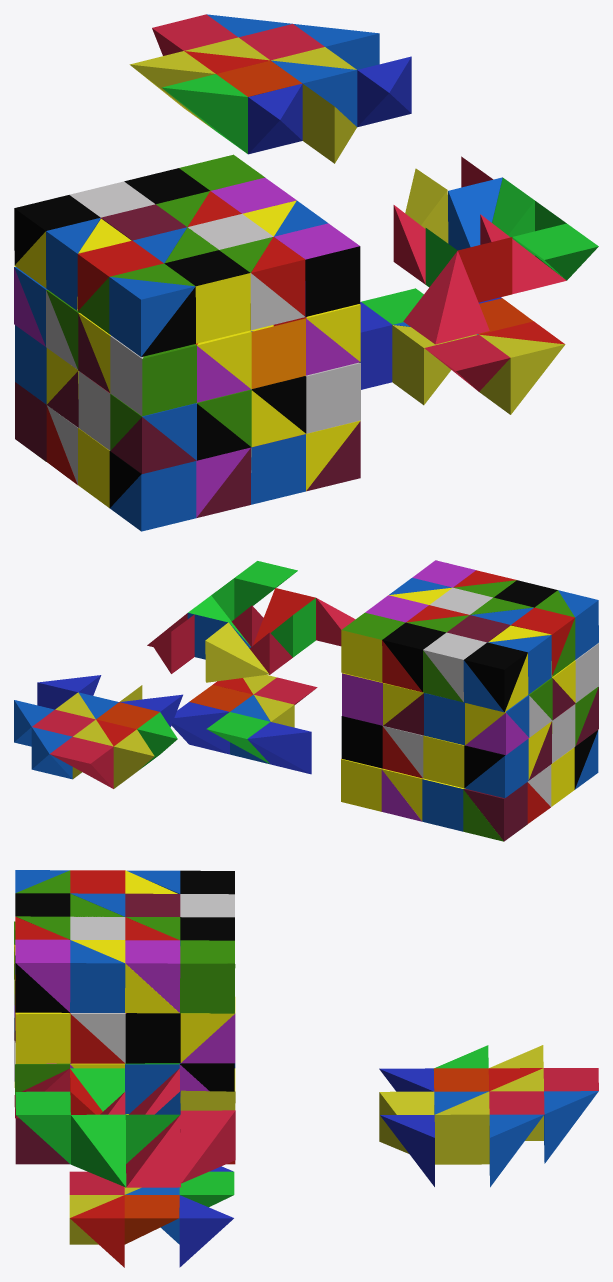
Rendered from modelc8.fbx.
The picture shows the model from 3 angles, top to bottom: view 1: azimuth 30°, elevation 25°; view 2: azimuth 150°, elevation 25°; view 3: azimuth 270°, elevation 25°; orthographic projection. The views are drawn at different scales.
Parts seen in each view (by area): view 1: Cube.365, Cube.297, Cube.221, Cube.291, Cube.208, Cube.295, Cube.375, Cube.248, Cube.369, Cube.300, Cube.212, Cube.325 (+82 smaller); view 2: Cube.309, Cube.358, Cube.229, Cube.231, Cube.269, Cube.307, Cube.204, Cube.351, Cube.328, Cube.337, Cube.273, Cube.279 (+81 smaller); view 3: Cube.318, Cube.334, Cube.331, Cube.377, Cube.327, Cube.321, Cube.343, Cube.374, Cube.328, Cube.319, Cube.347, Cube.320 (+54 smaller).
Part boxes in pixels (bbox=[...]): Cube.365: bbox=[109, 277, 195, 356]; Cube.297: bbox=[403, 251, 489, 344]; Cube.221: bbox=[110, 461, 196, 531]; Cube.291: bbox=[162, 74, 247, 153]; Cube.208: bbox=[479, 334, 565, 414]; Cube.295: bbox=[142, 344, 196, 416]; Cube.375: bbox=[305, 246, 360, 316]; Cube.248: bbox=[306, 362, 360, 433]; Cube.369: bbox=[195, 273, 250, 343]; Cube.300: bbox=[248, 83, 302, 154]; Cube.212: bbox=[251, 434, 305, 504]; Cube.325: bbox=[357, 56, 411, 127]; Cube.309: bbox=[205, 622, 269, 682]; Cube.358: bbox=[464, 642, 527, 711]; Cube.229: bbox=[247, 722, 311, 774]; Cube.231: bbox=[463, 782, 527, 841]; Cube.269: bbox=[464, 739, 528, 798]; Cube.307: bbox=[50, 737, 113, 788]; Cube.204: bbox=[171, 702, 229, 754]; Cube.351: bbox=[423, 632, 486, 701]; Cube.328: bbox=[234, 561, 297, 618]; Cube.337: bbox=[382, 622, 445, 691]; Cube.273: bbox=[423, 735, 464, 788]; Cube.279: bbox=[341, 716, 382, 768]; Cube.318: bbox=[180, 1110, 235, 1183]; Cube.334: bbox=[434, 1091, 489, 1164]; Cube.331: bbox=[71, 1114, 126, 1187]; Cube.377: bbox=[70, 940, 125, 1012]; Cube.327: bbox=[15, 1012, 70, 1063]; Cube.321: bbox=[125, 1013, 180, 1063]; Cube.343: bbox=[180, 963, 235, 1013]; Cube.374: bbox=[15, 939, 70, 1011]; Cube.328: bbox=[15, 1091, 70, 1164]; Cube.319: bbox=[126, 1115, 181, 1187]; Cube.347: bbox=[125, 940, 180, 1012]; Cube.320: bbox=[489, 1114, 543, 1187].
Size of the model in its own units: 1875 by 824 by 2130.
